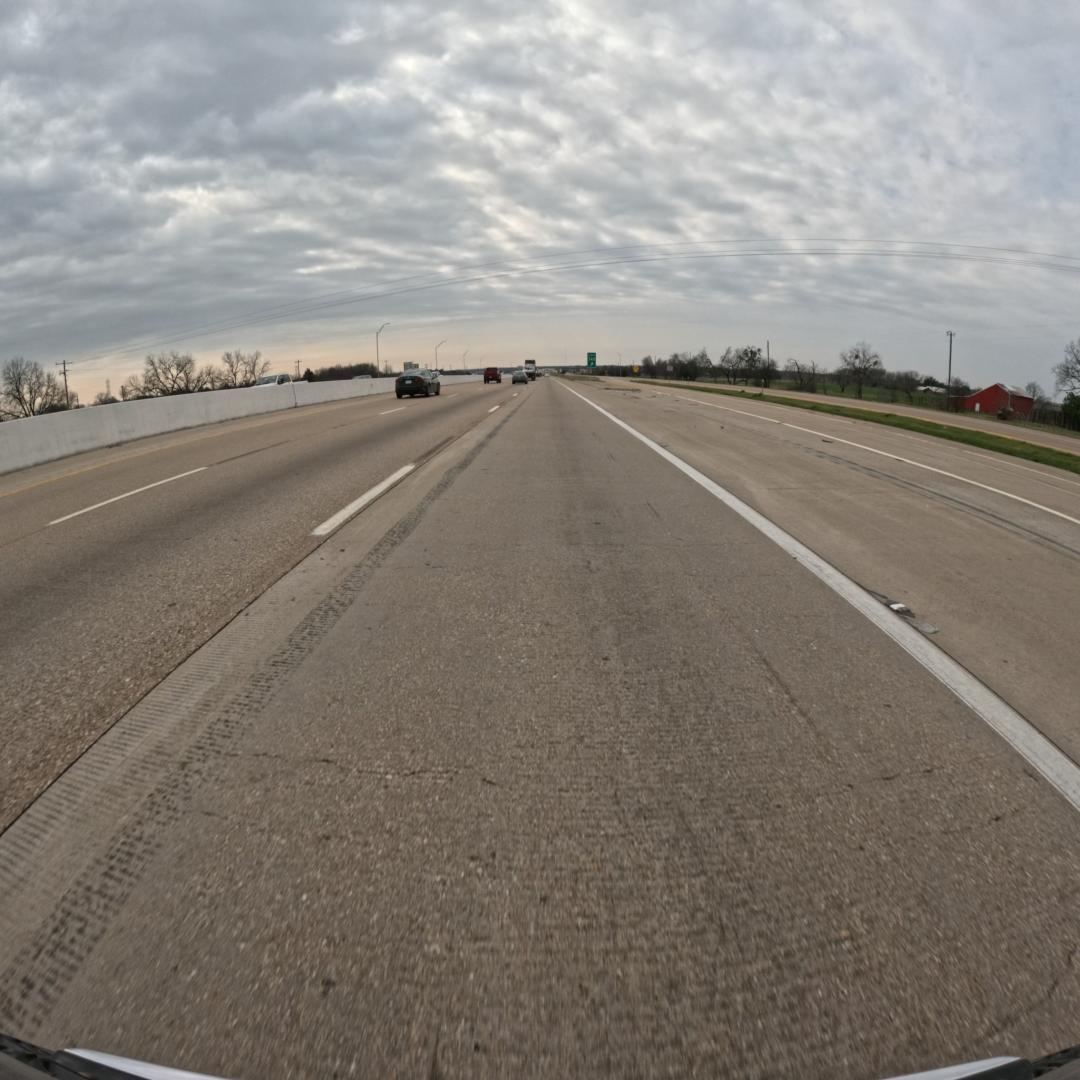lane0: (0, 380, 1080, 1076)
lane1: (0, 389, 512, 832)
